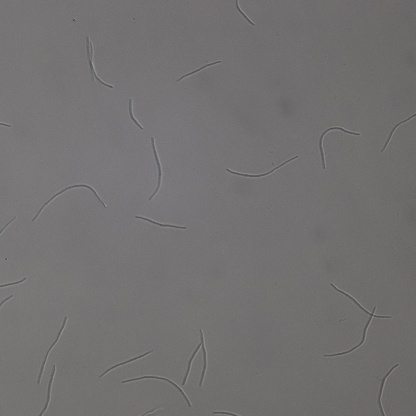Sensitive: (32, 182, 107, 220), (325, 307, 376, 358), (122, 374, 192, 409), (333, 283, 393, 319), (37, 315, 68, 381), (319, 125, 360, 168), (226, 155, 297, 179), (183, 329, 208, 388), (86, 37, 114, 88), (100, 349, 152, 376), (382, 115, 416, 151), (376, 363, 398, 416), (39, 363, 56, 416), (135, 213, 187, 230), (149, 137, 163, 199), (176, 61, 221, 80), (126, 99, 143, 130), (233, 1, 254, 24)
